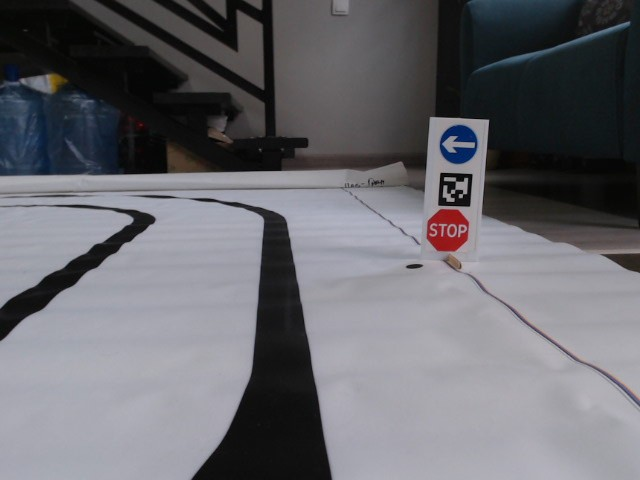Stop: (426, 208, 470, 254)
